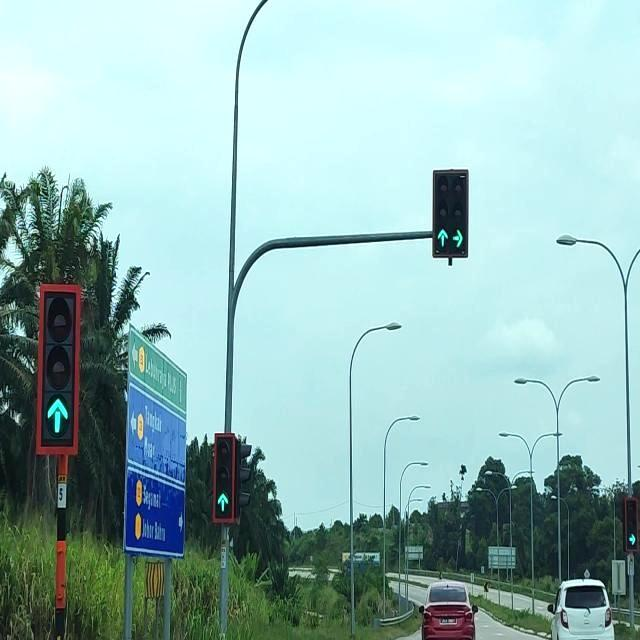Green: (36, 284, 80, 452), (213, 432, 234, 520), (432, 170, 452, 260), (451, 170, 469, 258), (624, 496, 638, 552)
